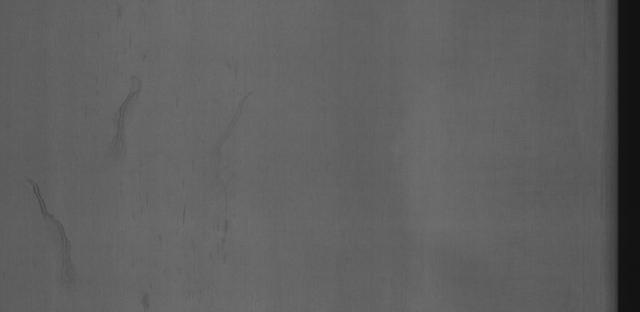water_spot: (24, 174, 92, 290), (99, 76, 150, 156)
